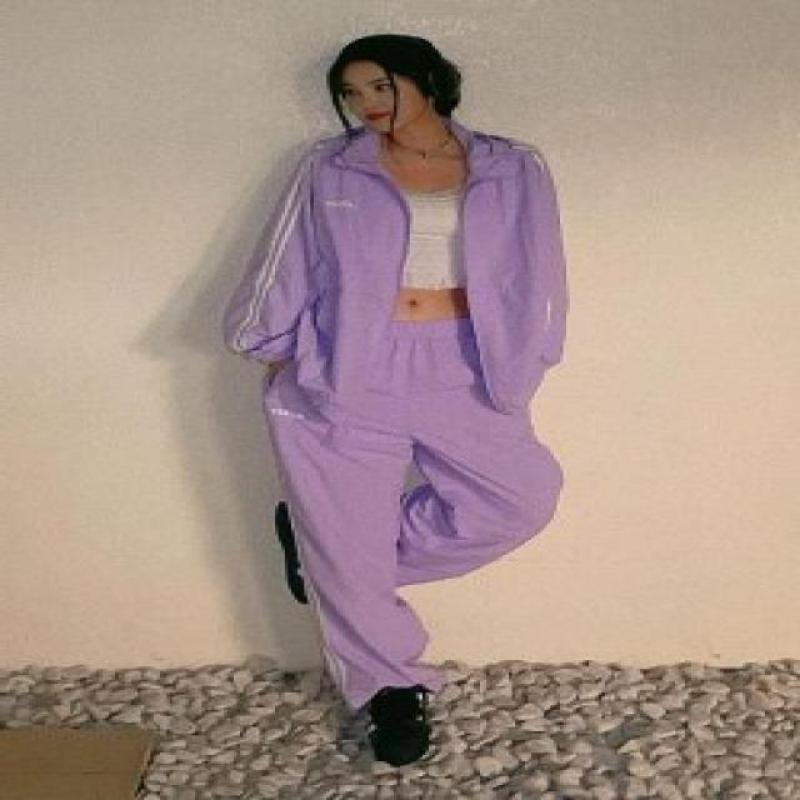jacket: (219, 116, 570, 433)
trousers: (261, 323, 567, 714)
vest: (393, 178, 471, 294)
